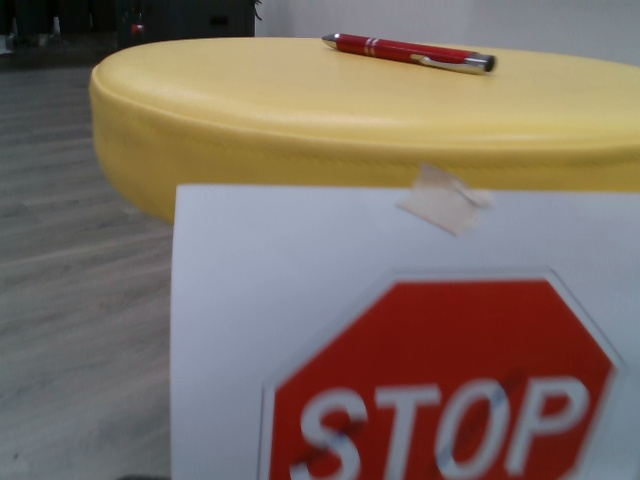stop: (252, 265, 632, 480)
